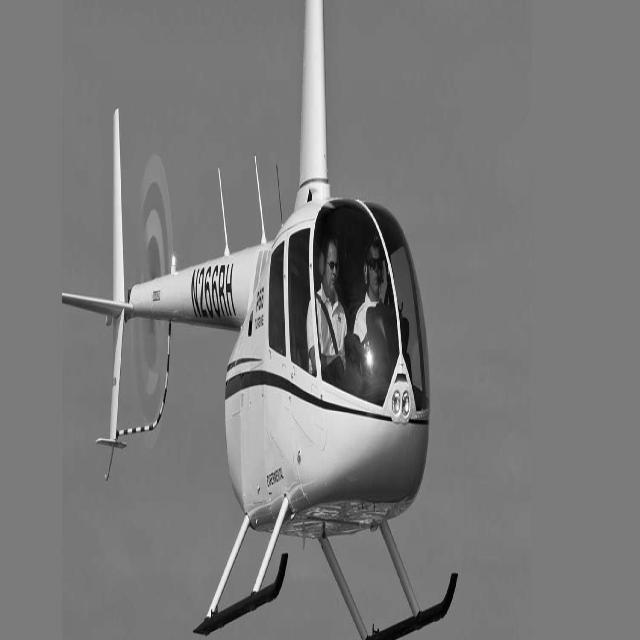helicopter: (55, 1, 517, 640)
